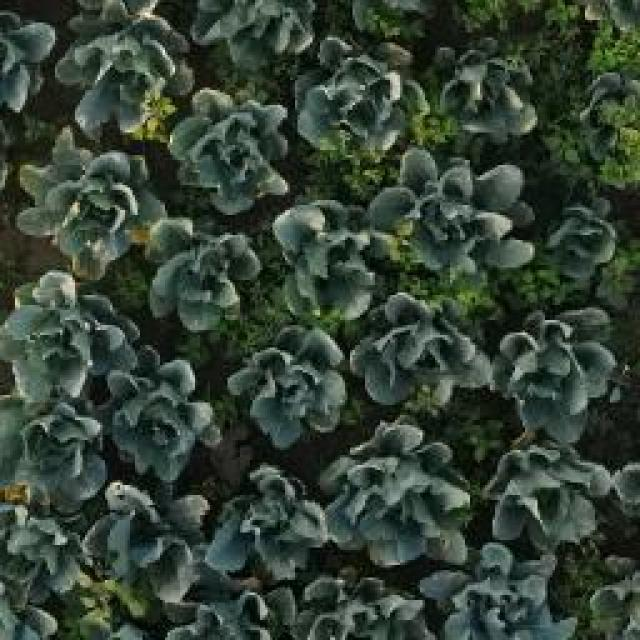cabbage: (330, 425, 465, 553), (492, 432, 626, 547), (498, 304, 623, 425), (395, 157, 531, 266), (64, 11, 190, 127), (356, 301, 484, 412), (30, 145, 155, 253), (308, 47, 420, 165), (237, 322, 347, 440), (107, 356, 219, 469), (7, 281, 118, 390), (180, 96, 292, 204), (150, 219, 264, 324), (99, 488, 208, 592), (274, 203, 380, 307), (216, 475, 322, 573), (436, 49, 540, 139), (5, 402, 99, 498), (445, 558, 551, 640), (547, 193, 634, 285), (200, 0, 305, 62)
